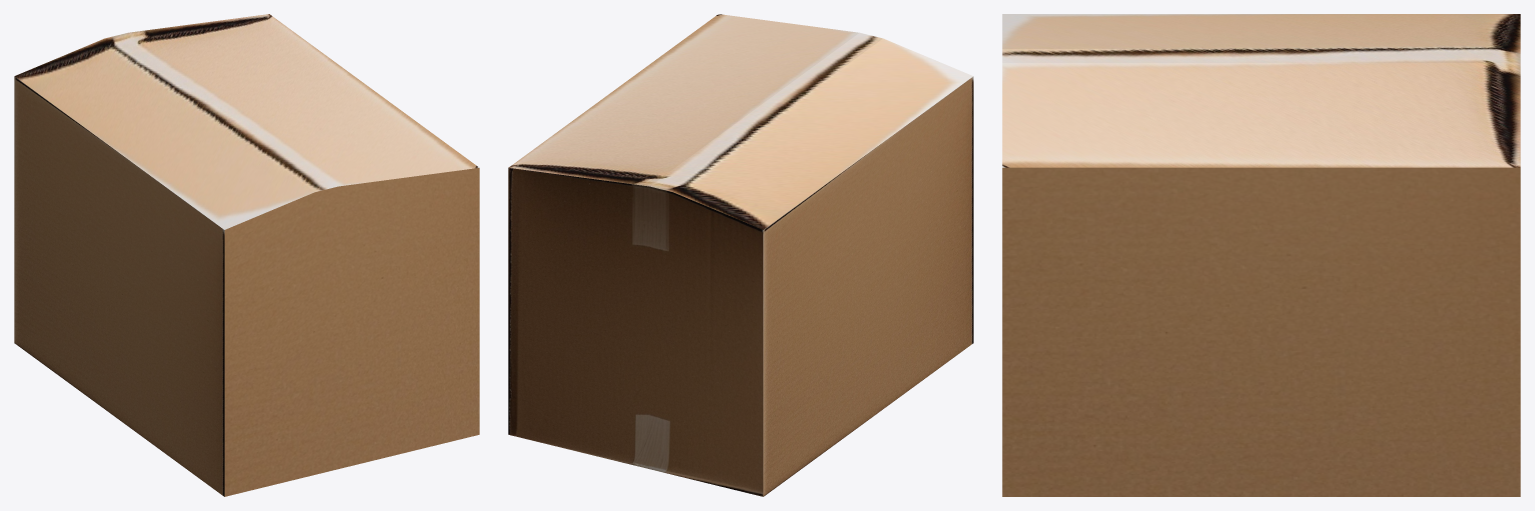
Rendered from Cardboard Box.obj.
3 views of the same model, side by side, from view 1: azimuth 30°, elevation 25°; view 2: azimuth 150°, elevation 25°; view 3: azimuth 270°, elevation 25° (orthographic). The views are drawn at different scales.
Parts seen in each view (by area): view 1: Cardboard_Box; view 2: Cardboard_Box; view 3: Cardboard_Box.
Boxes of the visible parts, x1=… form: Cardboard_Box: x1=14, y1=14, x2=479, y2=496; Cardboard_Box: x1=508, y1=14, x2=973, y2=496; Cardboard_Box: x1=1002, y1=14, x2=1520, y2=496.
Bounding box in the file's own units: 1.47 × 1.56 × 2.1.
Materials: 1 (1 with a texture image).
